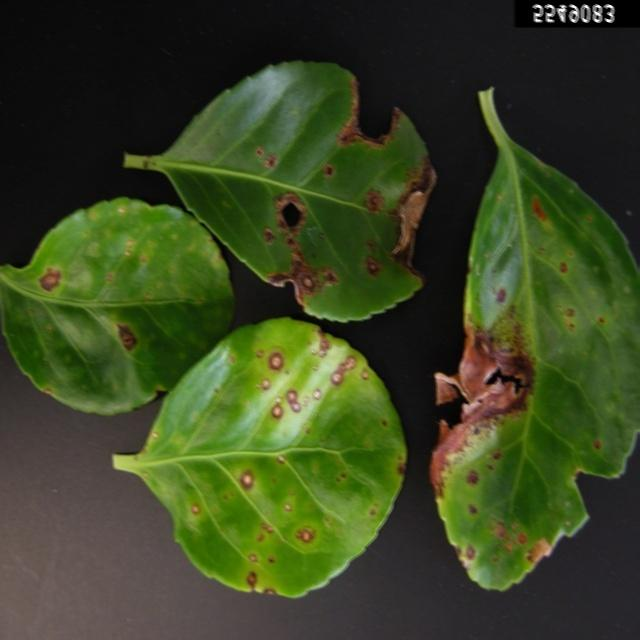leaf_spot: (110, 310, 417, 612), (146, 37, 444, 329), (0, 182, 243, 424)
